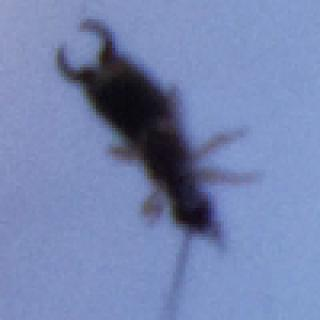earwig: (47, 10, 270, 316)
